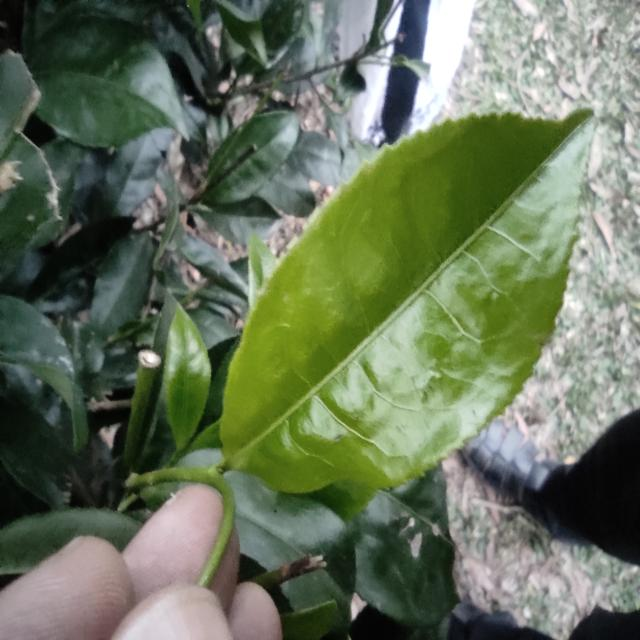Category C 4-7 days: (192, 63, 602, 551)
